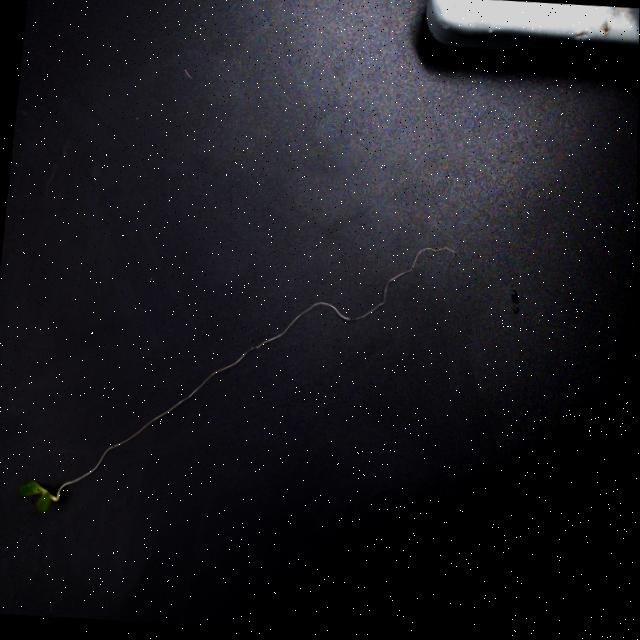leaf: (18, 479, 50, 516)
root: (60, 244, 463, 493)
steb: (42, 482, 62, 502)
